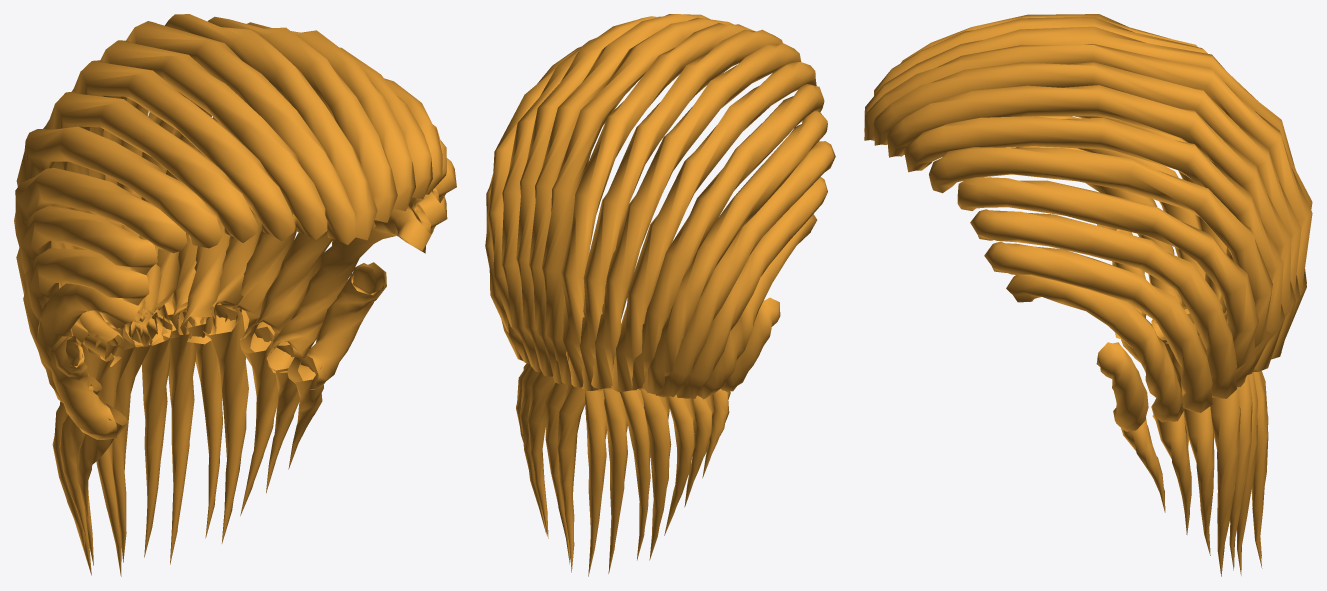
The model's file is Hair_14.fbx.
3 views of the same model, side by side, from view 1: azimuth 30°, elevation 25°; view 2: azimuth 150°, elevation 25°; view 3: azimuth 270°, elevation 25° (orthographic). The views are drawn at different scales.
Visible parts, largest first — view 1: Hair_14; view 2: Hair_14; view 3: Hair_14.
Part boxes in pixels (x1,y1,x2,y2): Hair_14: (14,14,456,576); Hair_14: (485,14,835,576); Hair_14: (864,14,1312,576).
Size of the model in its own units: 0.2105 by 0.3447 by 0.2642.
